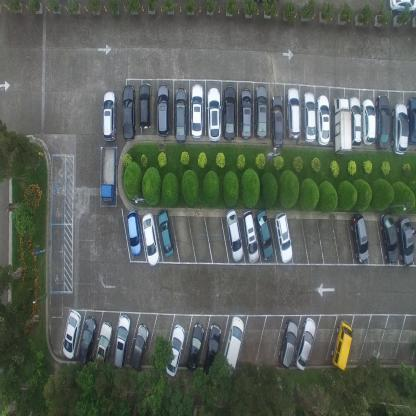car: (221, 315, 244, 376), (294, 316, 316, 372), (331, 318, 353, 371), (202, 323, 222, 381), (333, 93, 352, 154), (165, 321, 185, 376), (93, 320, 113, 374), (128, 321, 150, 370), (277, 319, 298, 370), (380, 209, 400, 262), (62, 307, 82, 359), (241, 208, 259, 265), (255, 206, 274, 260), (350, 212, 370, 263), (224, 209, 242, 264), (113, 313, 131, 368), (141, 212, 159, 266), (78, 313, 97, 364), (274, 211, 293, 262), (185, 320, 204, 370), (100, 146, 116, 205), (397, 214, 415, 265), (392, 101, 408, 156), (121, 83, 136, 141), (173, 86, 188, 143), (286, 84, 301, 140), (206, 86, 221, 142), (157, 209, 174, 258), (376, 92, 390, 150), (102, 89, 117, 142), (190, 82, 204, 138), (361, 96, 377, 144), (223, 83, 236, 141), (317, 92, 331, 145), (126, 209, 141, 258), (303, 90, 317, 142), (255, 84, 268, 140), (156, 83, 169, 138), (138, 81, 152, 130), (350, 92, 362, 147), (240, 88, 252, 140), (272, 93, 283, 149), (388, 0, 416, 15), (408, 95, 415, 147)
